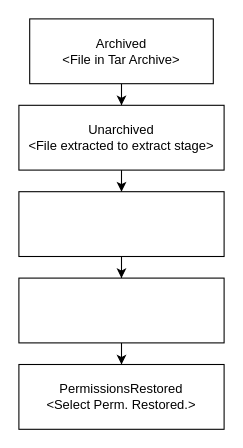
The diagram is 243 pixels wide and 448 high, and some of its shapes have lost their labels. The shapes that lost their labels are listed below. From the top down, each one's centre as x and y in pixels, then its label:
the point at 121,223: Rehashed <Recomputed sha1 for integrity>
the point at 121,310: AtDestination <Moved/Linked to Dest>
